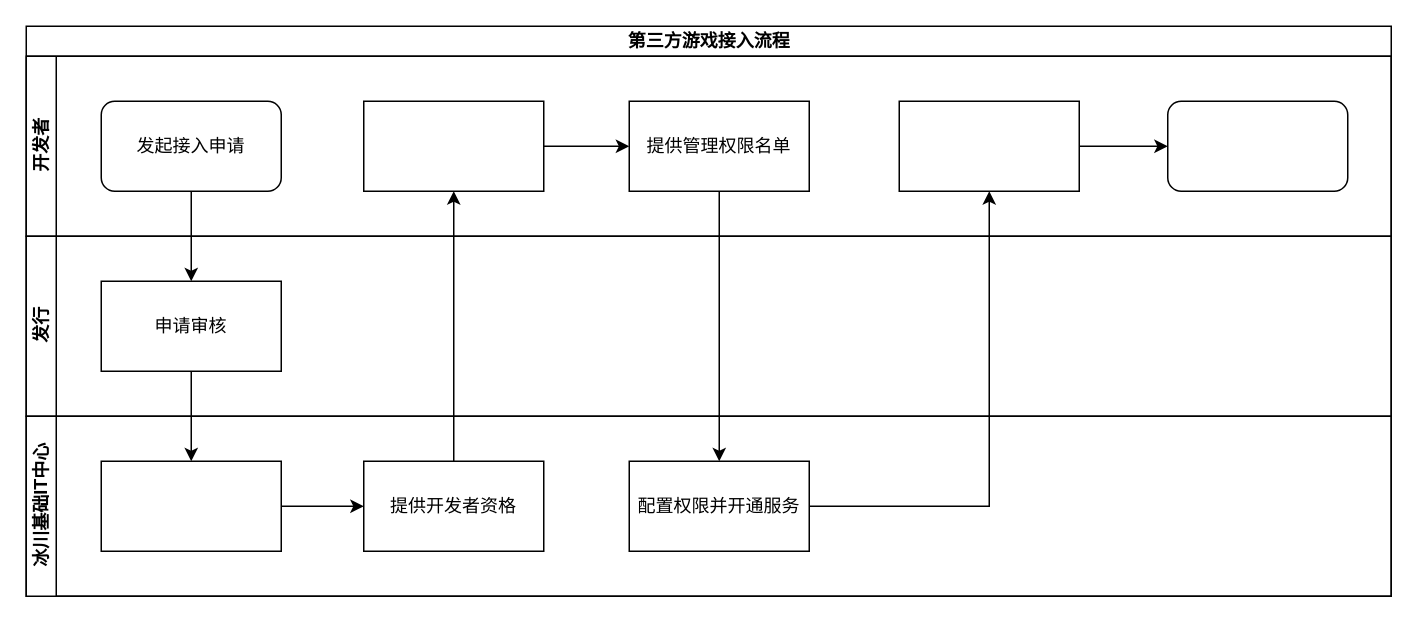
Image size: 1418x623. Some labels were removed from this diagram. The centre of each missing label's shape, as x and y in pixels:
"客户端接入 服务器接入" belongs at point (453, 145).
"收到审核通过结果" belongs at point (190, 505).
"游戏接入完成" belongs at point (1257, 145).
"管理后台接入 广告后台接入" belongs at point (988, 145).
